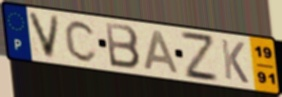A: (142, 29, 181, 75)
B: (103, 21, 143, 72)
C: (63, 18, 100, 64)
K: (219, 38, 251, 86)
V: (25, 10, 63, 61)
Z: (178, 29, 221, 84)
